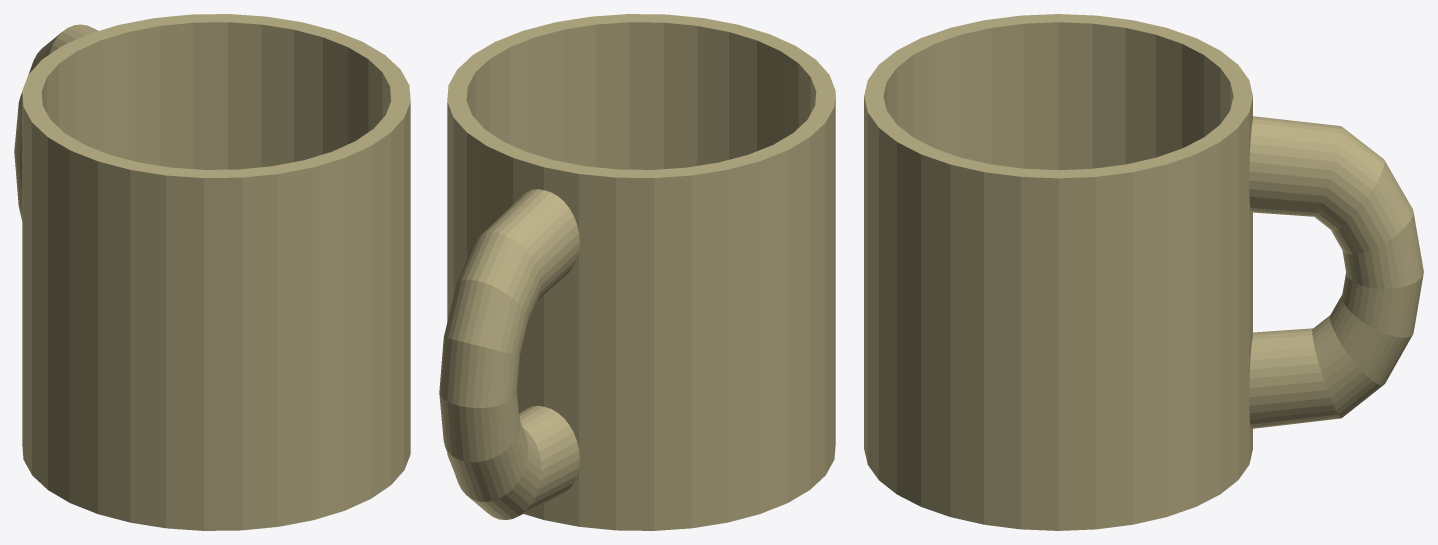
File: Tasse.fbx
The picture shows the model from 3 angles, left to right: view 1: azimuth 30°, elevation 25°; view 2: azimuth 150°, elevation 25°; view 3: azimuth 270°, elevation 25°; orthographic projection.
Visible parts, largest first — view 1: Cylinder; view 2: Cylinder; view 3: Cylinder.
Boxes of the visible parts, box(x1,y1,x2,y2) form: Cylinder: box(14, 14, 410, 530); Cylinder: box(439, 14, 835, 530); Cylinder: box(864, 14, 1423, 530).
Size of the model in its own units: 200 by 200 by 288.
